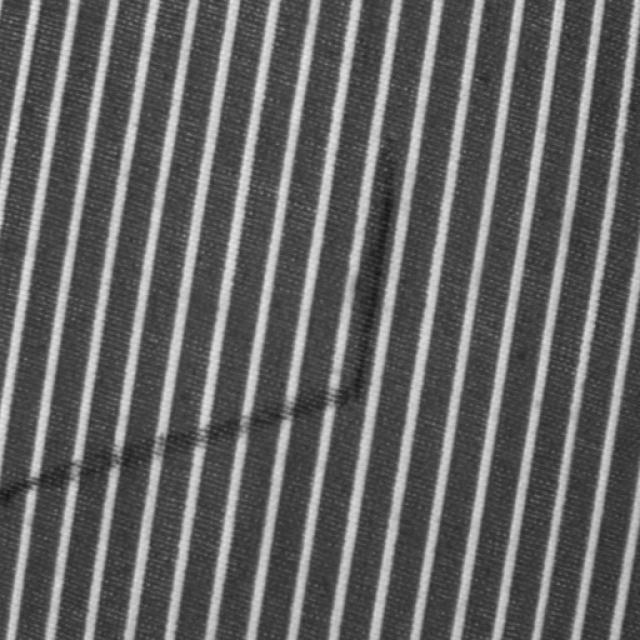Stain-Defect: (0, 134, 396, 506)
